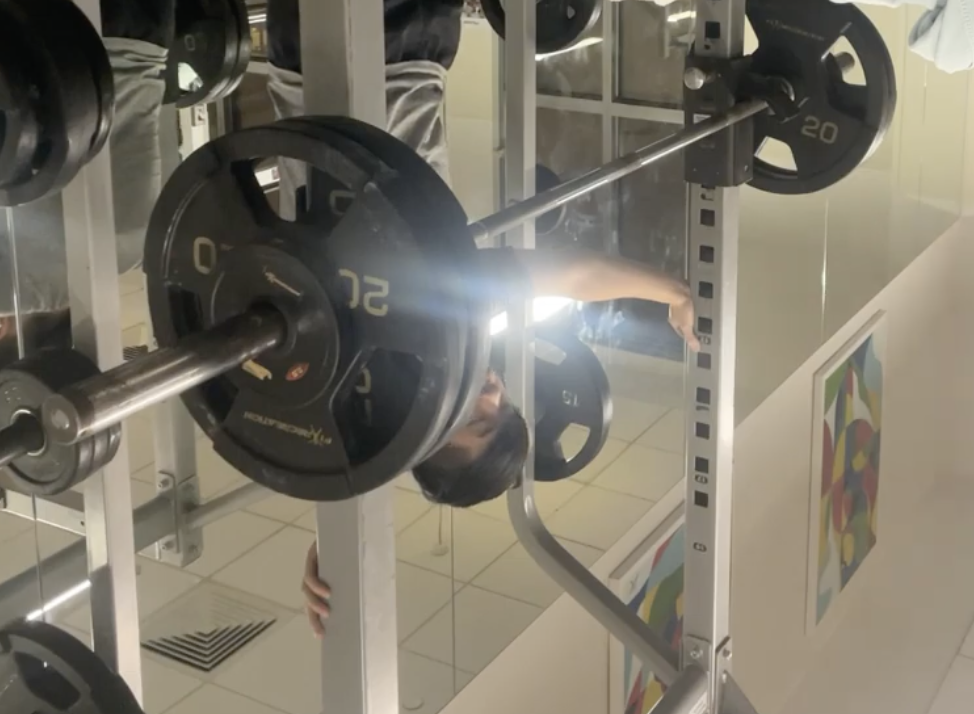barbell: (37, 396, 66, 442)
